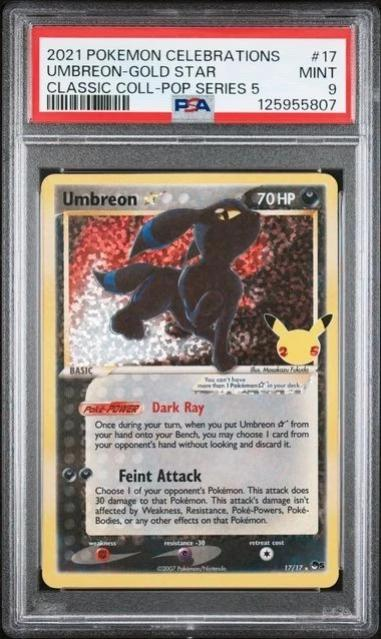Card: (36, 171, 343, 594)
Name: (59, 186, 170, 212)
